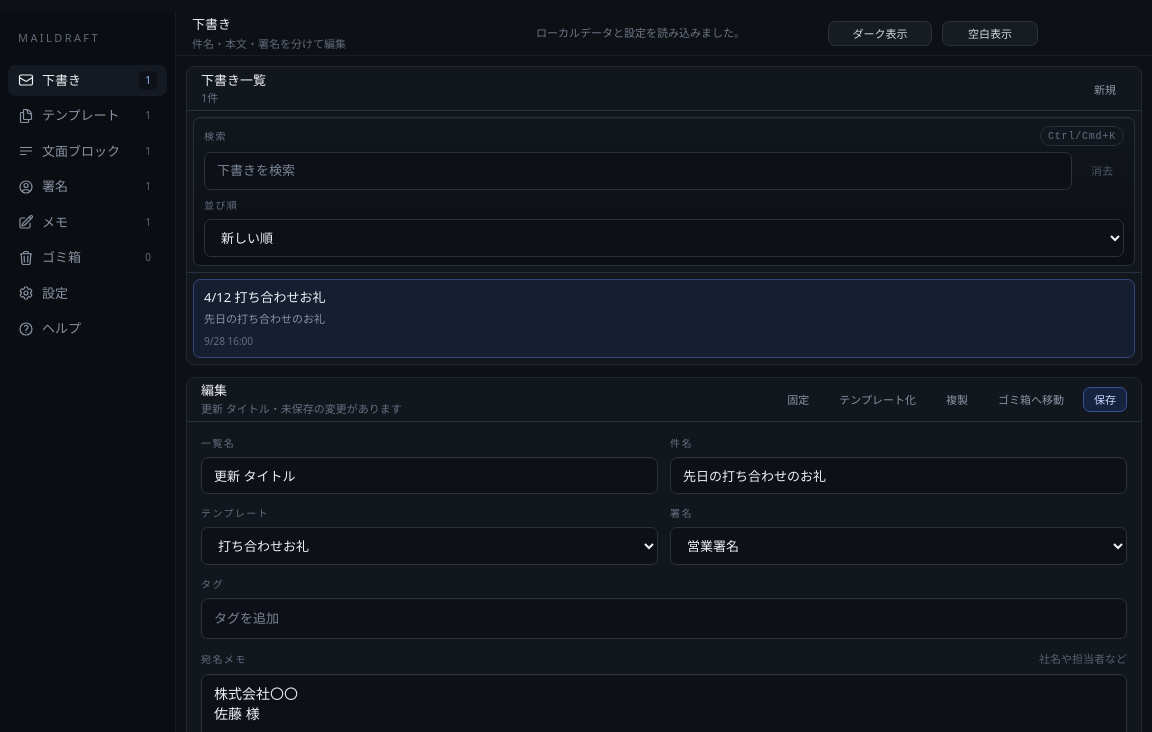
Test case: App runtime integration › normalizes newlines in single-line CodeMirror fields before saving
Click the button "保存" at (1105, 399), box top-left (1083, 386), bottom-right (1127, 412)
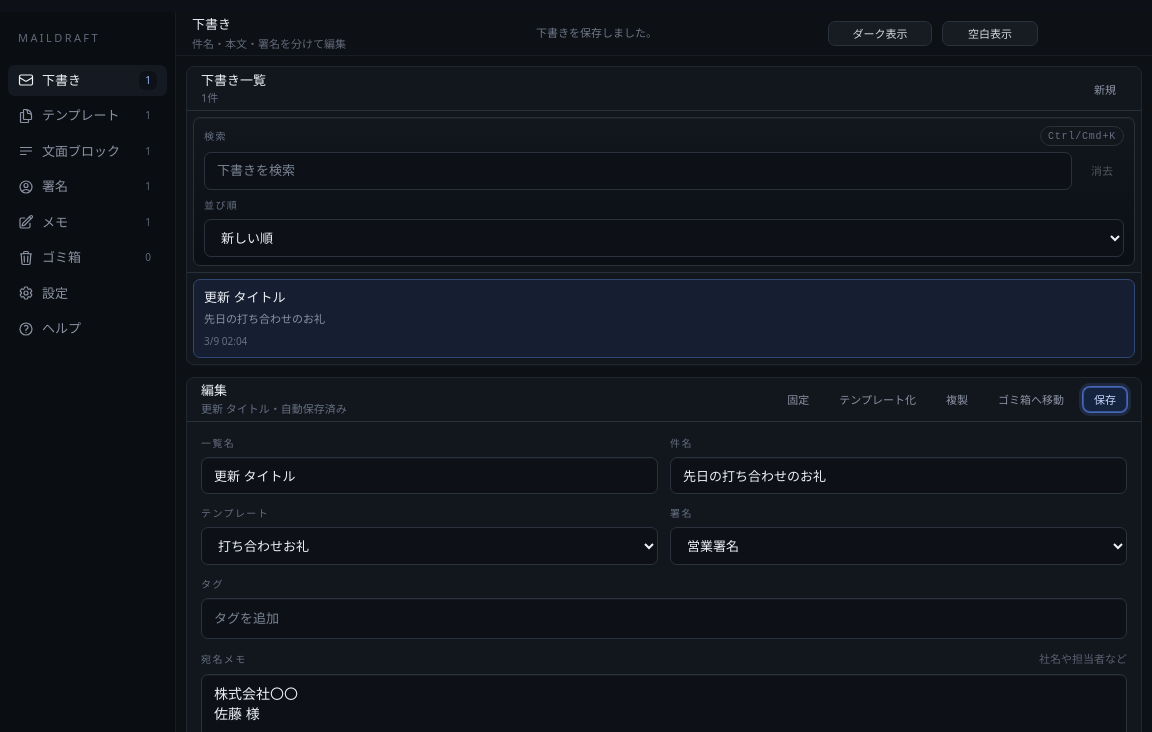
Expected: the text "更新 タイトル" is shown, top-left (204, 288), bottom-right (285, 307)
